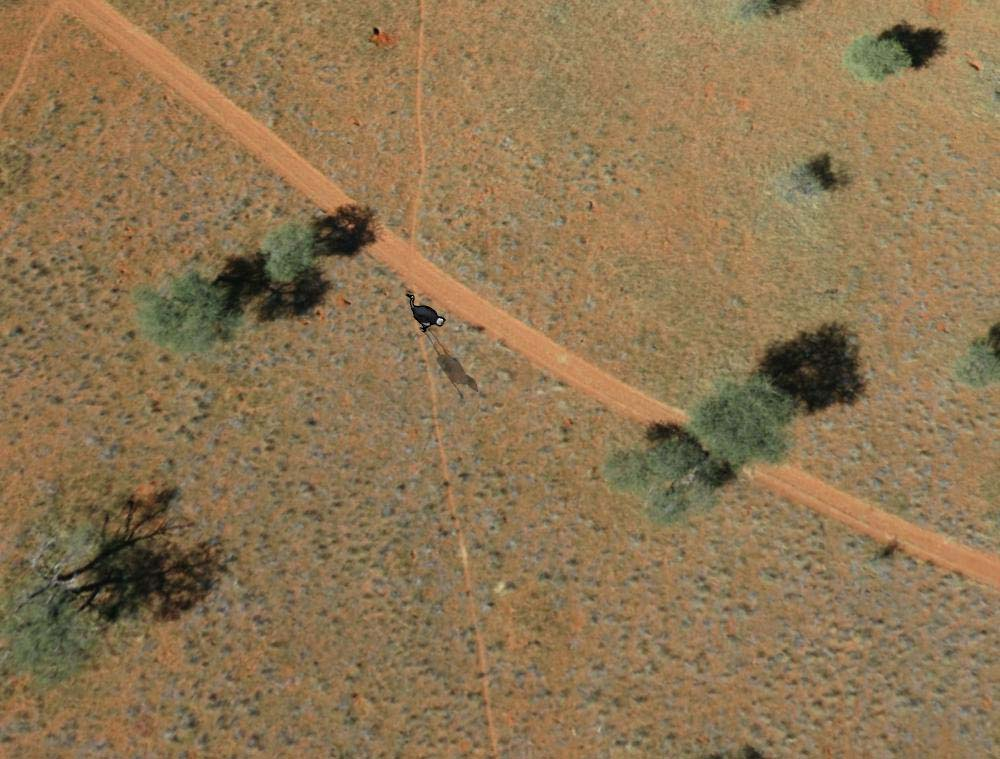ostrich: (405, 286, 446, 334)
